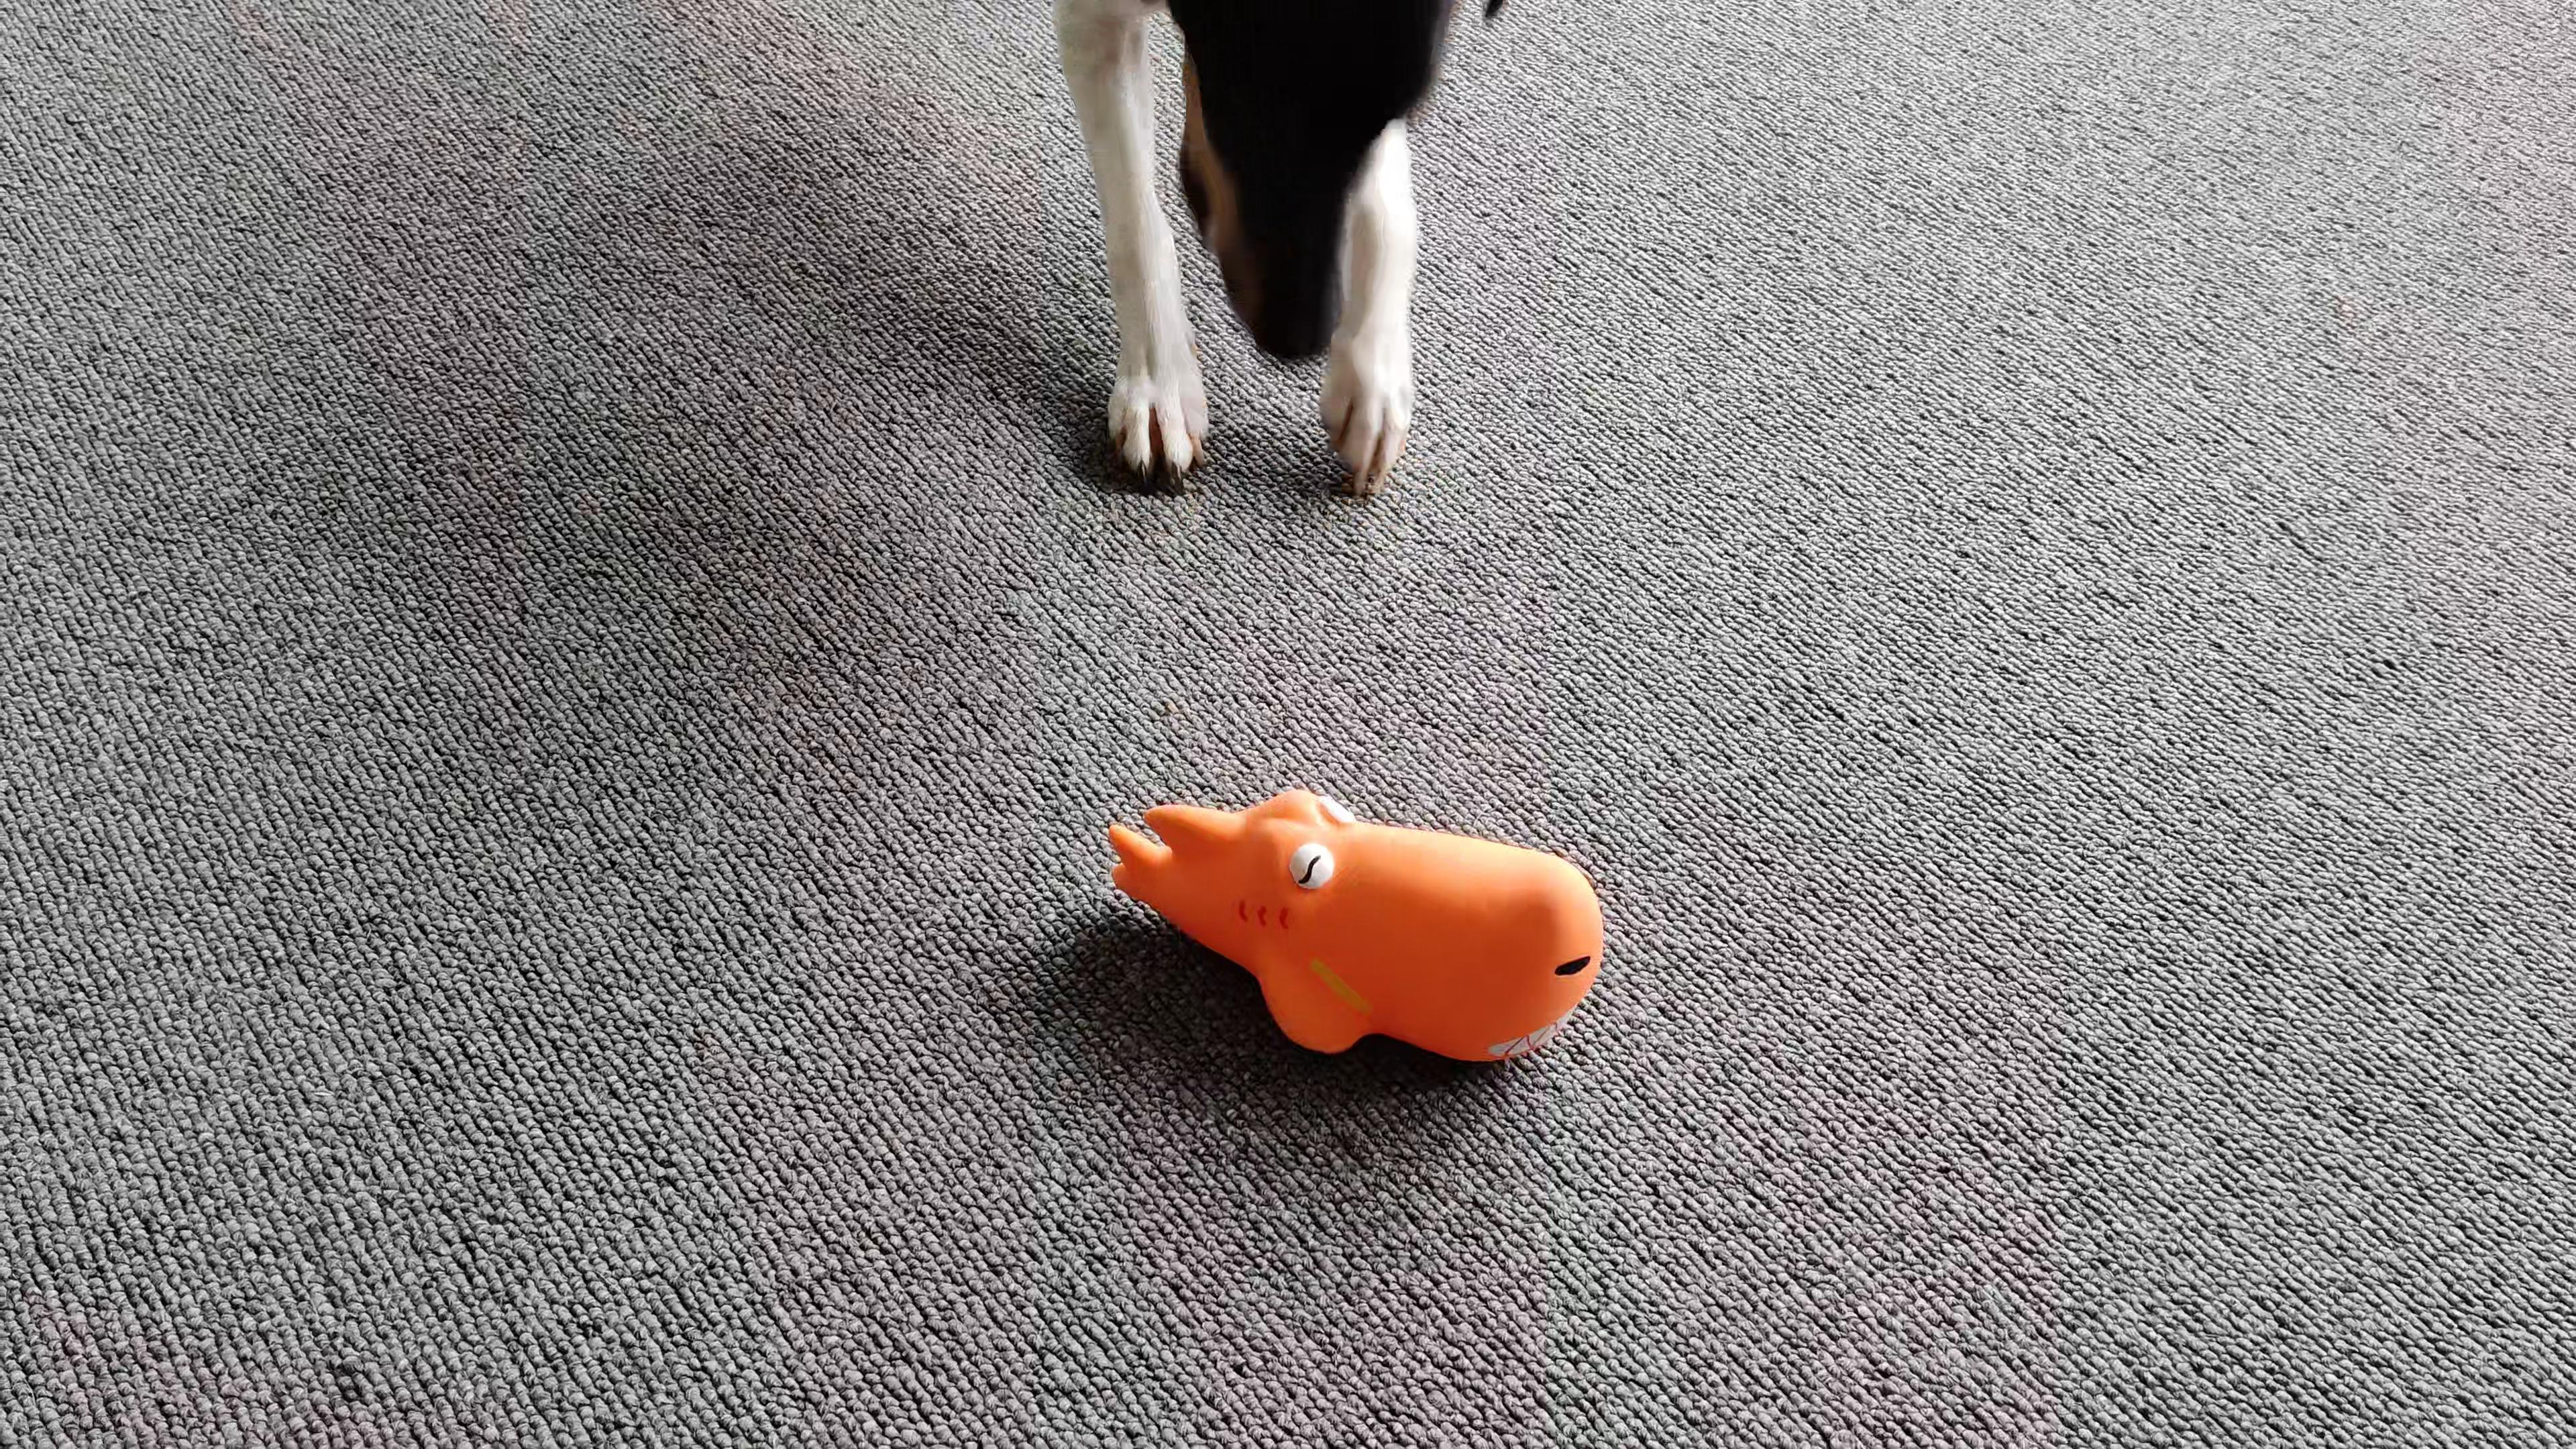Dog: (1021, 0, 1527, 508)
